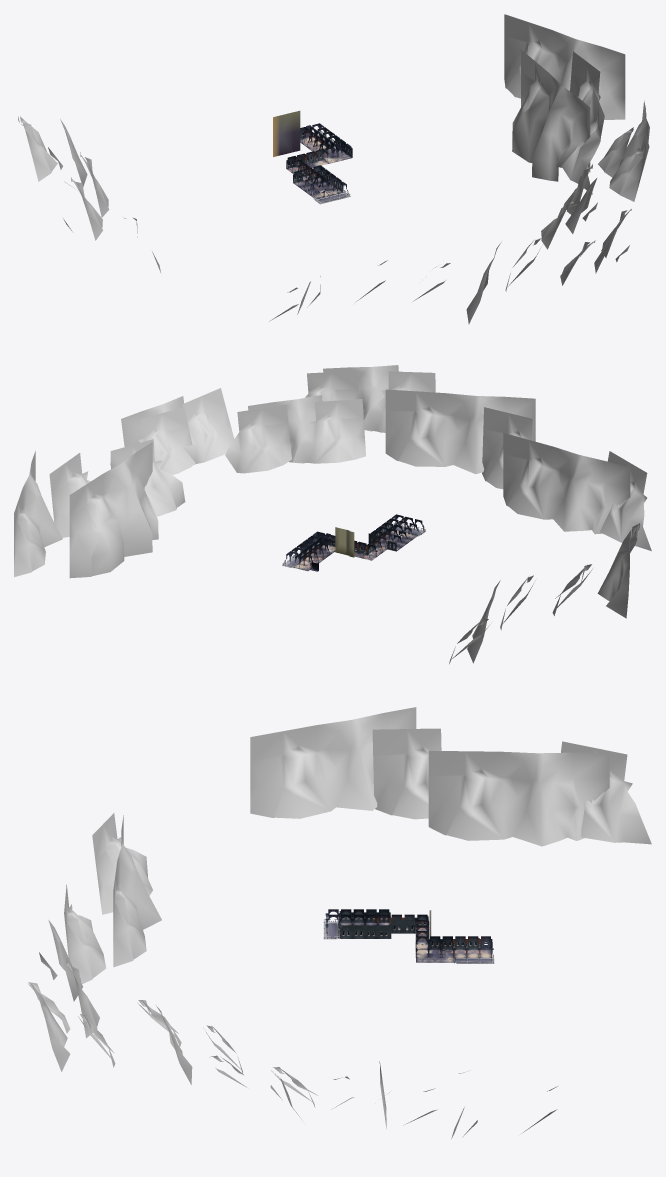
Rendered from 06End.gltf.
The picture shows the model from 3 angles, top to bottom: view 1: azimuth 30°, elevation 25°; view 2: azimuth 150°, elevation 25°; view 3: azimuth 270°, elevation 25°; orthographic projection. The views are drawn at different scales.
Visible parts, largest first — view 1: stg013_p04_Mesh_0000, stg013_o04_Mesh_0000, stg013_o04_Mesh_0001, stg013_o04_Mesh_0013, stg013_o04_Mesh_0002, stg013_o04_Mesh_0004; view 2: stg013_p04_Mesh_0000, stg013_o04_Mesh_0001, stg013_o04_Mesh_0002, stg013_o04_Mesh_0013, stg013_o04_Mesh_0004, stg013_o04_Mesh_0000; view 3: stg013_p04_Mesh_0000, stg013_o04_Mesh_0002, stg013_o04_Mesh_0008, stg013_o04_Mesh_0013, stg013_o04_Mesh_0001.
Boxes of the visible parts, <box> form: stg013_p04_Mesh_0000: <box>18,14,649,324</box>; stg013_o04_Mesh_0000: <box>273,110,300,156</box>; stg013_o04_Mesh_0001: <box>287,123,351,196</box>; stg013_o04_Mesh_0013: <box>287,137,351,199</box>; stg013_o04_Mesh_0002: <box>286,125,352,204</box>; stg013_o04_Mesh_0004: <box>287,125,350,193</box>; stg013_p04_Mesh_0000: <box>14,365,651,664</box>; stg013_o04_Mesh_0001: <box>286,514,422,560</box>; stg013_o04_Mesh_0002: <box>282,516,425,570</box>; stg013_o04_Mesh_0013: <box>293,528,417,570</box>; stg013_o04_Mesh_0004: <box>286,516,423,561</box>; stg013_o04_Mesh_0000: <box>335,527,354,557</box>; stg013_p04_Mesh_0000: <box>28,707,651,1139</box>; stg013_o04_Mesh_0002: <box>323,911,494,963</box>; stg013_o04_Mesh_0008: <box>339,911,492,946</box>; stg013_o04_Mesh_0013: <box>338,922,491,963</box>; stg013_o04_Mesh_0001: <box>324,909,493,957</box>.
Size of the model in its own units: 1088 by 213 by 863.
